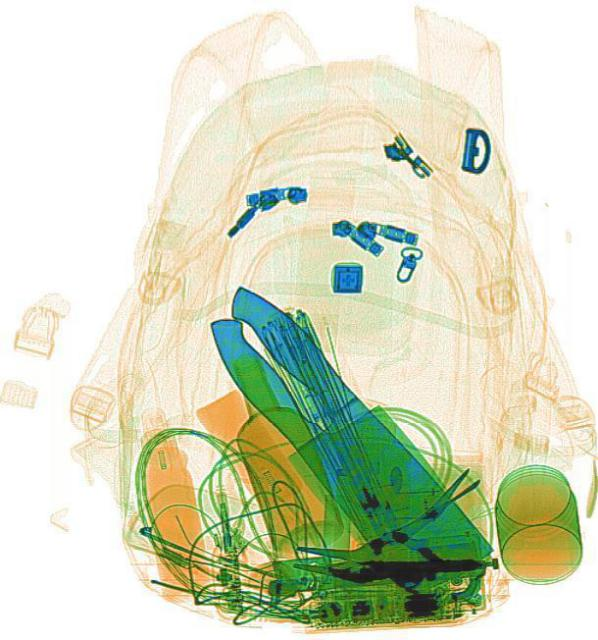Knife: (178, 270, 493, 616), (190, 274, 494, 608)
